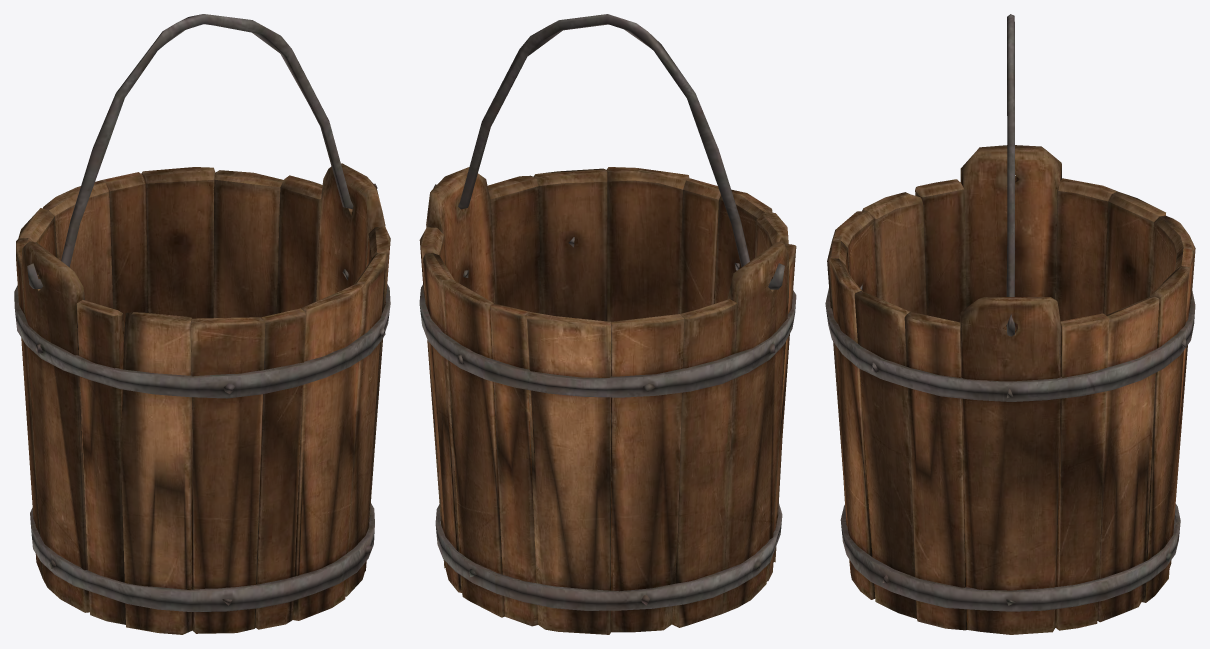
File: wooden_bucket_01.glb
3 renders of one model, left to right at view 1: azimuth 30°, elevation 25°; view 2: azimuth 150°, elevation 25°; view 3: azimuth 270°, elevation 25°, orthographic.
Parts seen in each view (by area): view 1: wooden_bucket_01, wooden_bucket_01_handle; view 2: wooden_bucket_01, wooden_bucket_01_handle; view 3: wooden_bucket_01, wooden_bucket_01_handle.
Boxes of the visible parts, box(x1,y1,x2,y2) form: wooden_bucket_01: box(14, 163, 390, 634); wooden_bucket_01_handle: box(27, 14, 377, 288); wooden_bucket_01: box(419, 167, 796, 634); wooden_bucket_01_handle: box(433, 14, 784, 289); wooden_bucket_01: box(825, 145, 1195, 634); wooden_bucket_01_handle: box(1006, 14, 1015, 336).
Size of the model in its own units: 0.3663 by 0.5493 by 0.3407.
Materials: 1 (1 with a texture image).
